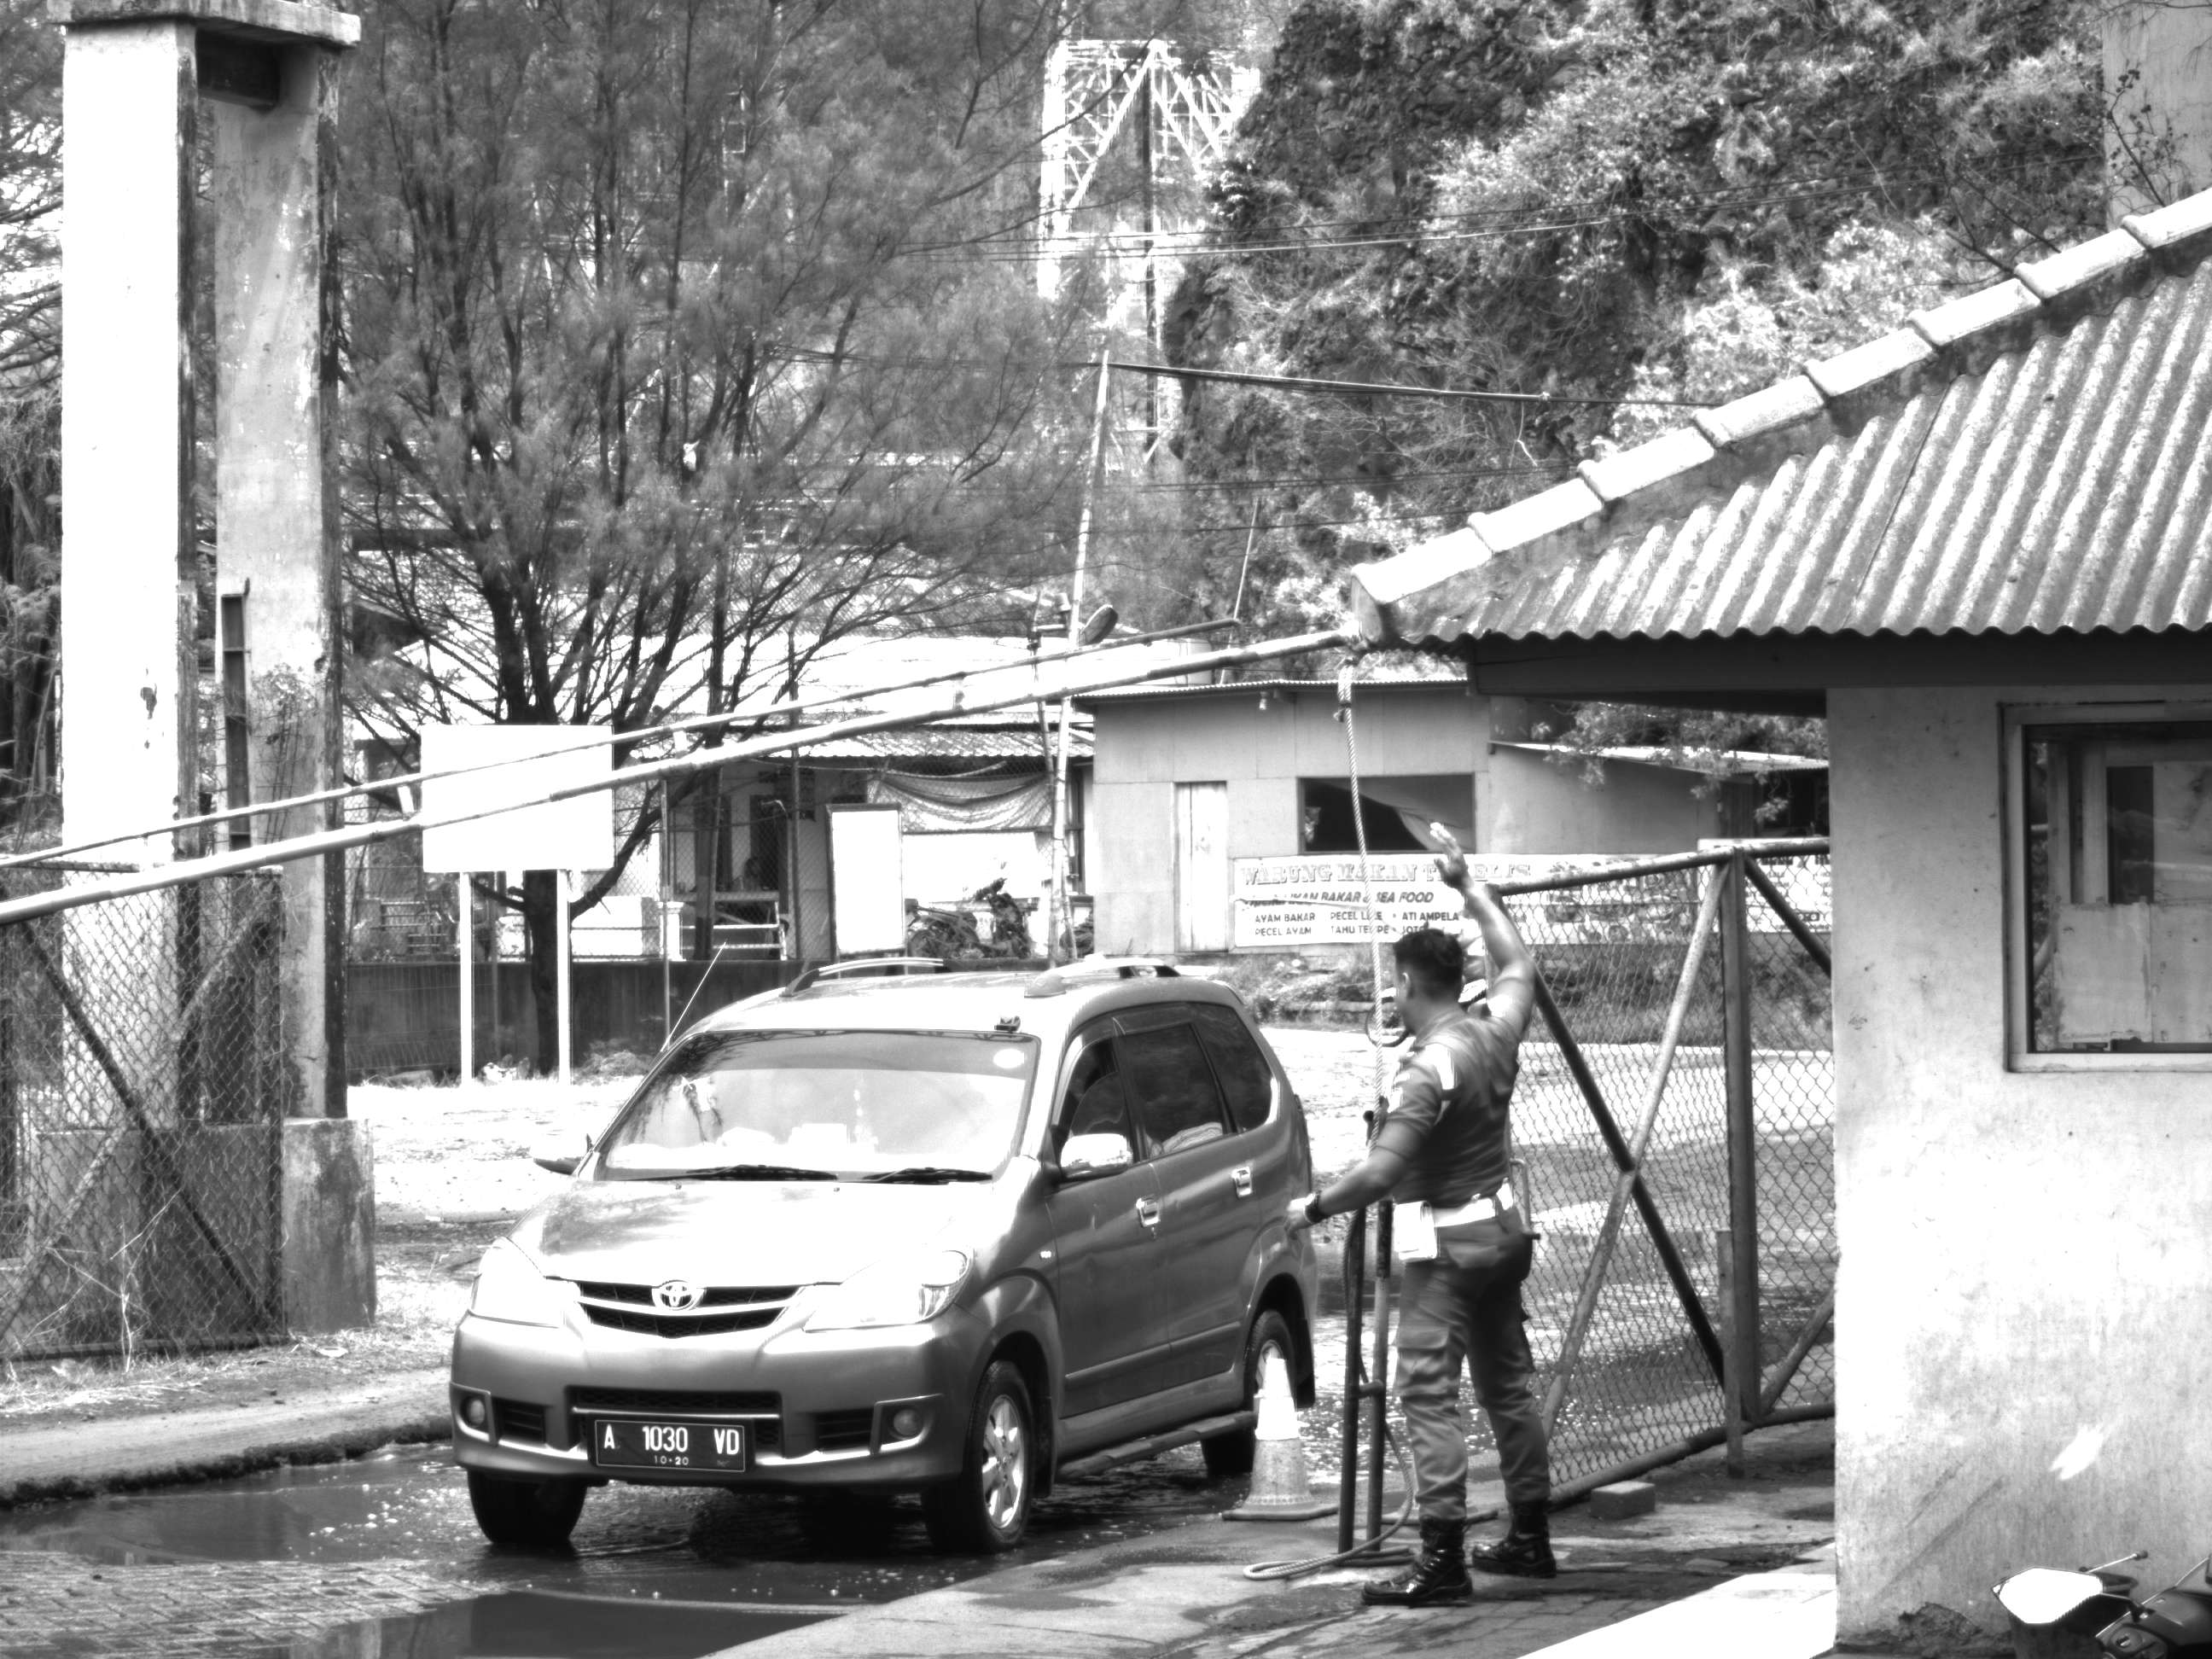day_small_front: (445, 956, 1054, 1565)
plate: (594, 1419, 751, 1478)
